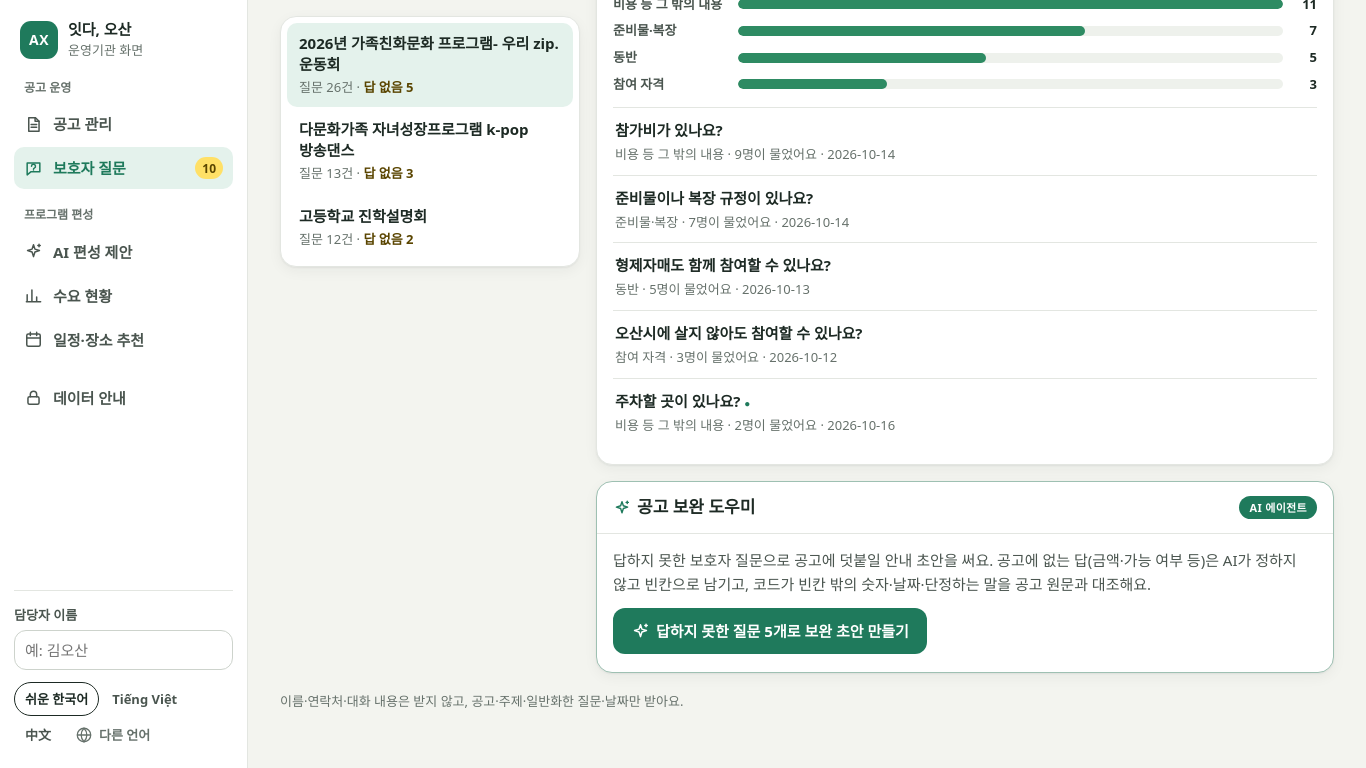
Test: 공고 보완 도우미 › 답 없는 질문으로 초안을 받아, 빈칸을 채워야 공고에 덧붙일 수 있다
The width and height of the screenshot is (1366, 768).
(page scrolled)
Step 1. Click the button "답하지 못한 질문 5개로 보완 초안 만들기" → x=770, y=631, box [613,608,927,654]
(page scrolled)
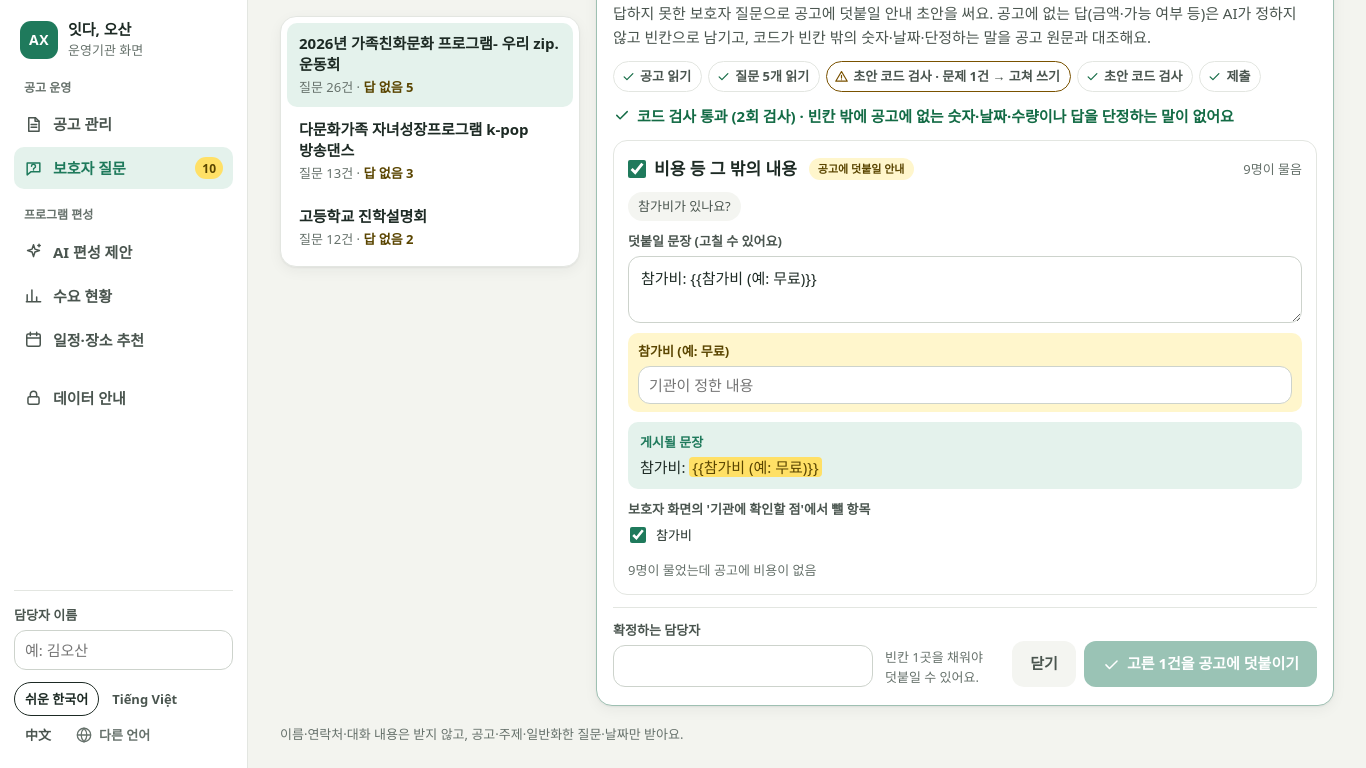
Now the text "코드 검사 통과 (2회 검사) · 빈칸 밖에 공고에 없는 숫자·날짜·수량이나 답을 단정하는 말이 없어요" is shown, box [613,104,1317,128]
Now the list item "초안 코드 검사 · 문제 1건 → 고쳐 쓰기" is shown, box [826,61,1071,92]
Now the button "고른 1건을 공고에 덧붙이기" is disabled, box [1084,641,1317,687]
Step 2. Type "무료" into the field labelled "참가비 (예: 무료)" → x=965, y=385, box [638,366,1292,404]
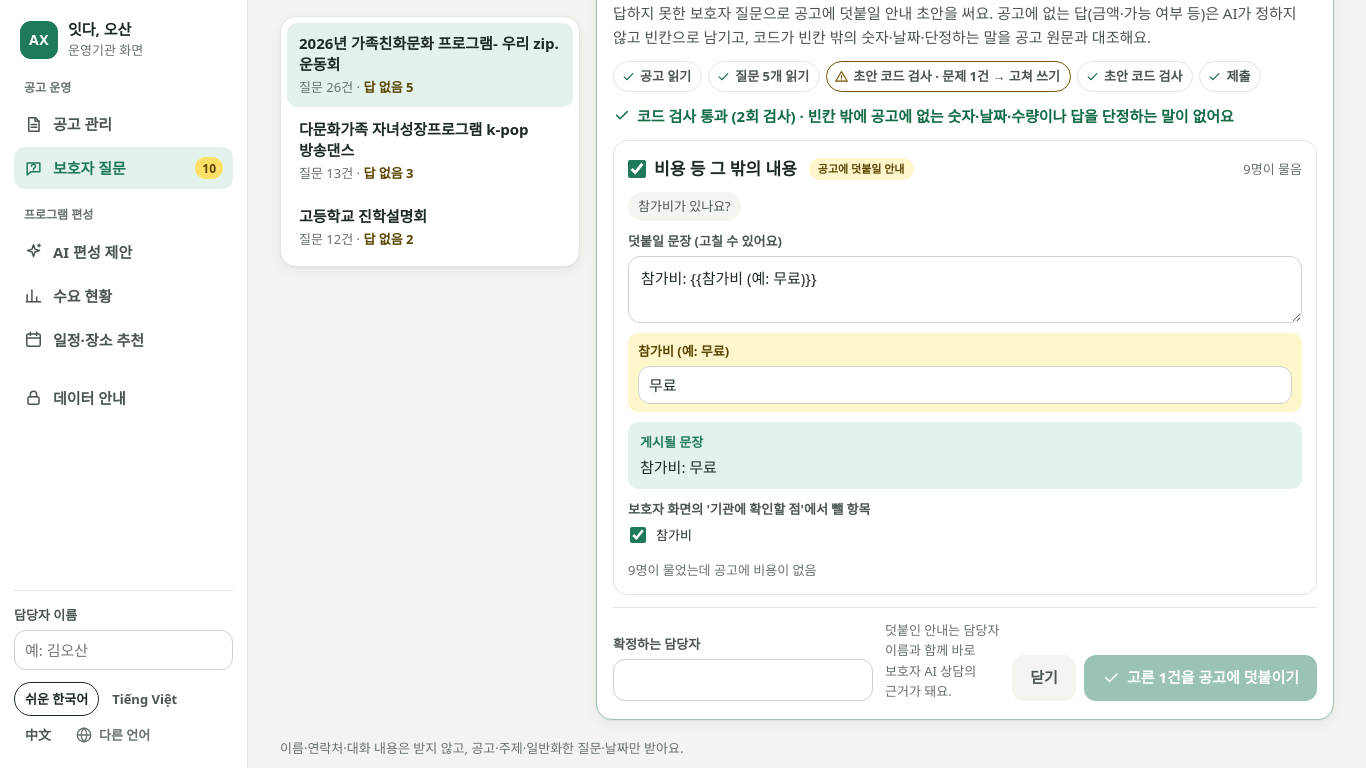
Step 3. Type "김오산" into the field labelled "확정하는 담당자" → x=743, y=680, box [613,659,873,701]
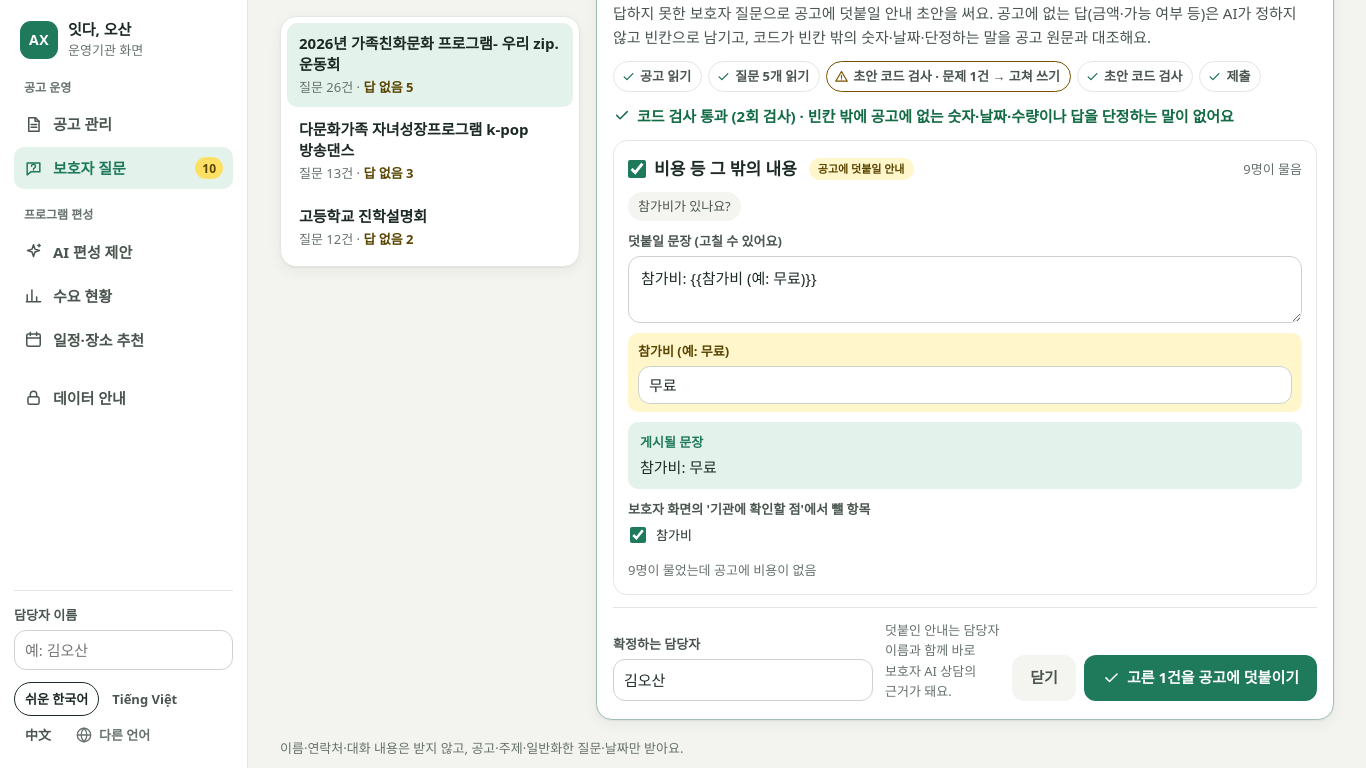
Now the button "고른 1건을 공고에 덧붙이기" is enabled
Step 4. Click the button "고른 1건을 공고에 덧붙이기" → x=1200, y=678, box [1084,655,1317,701]
(page scrolled)
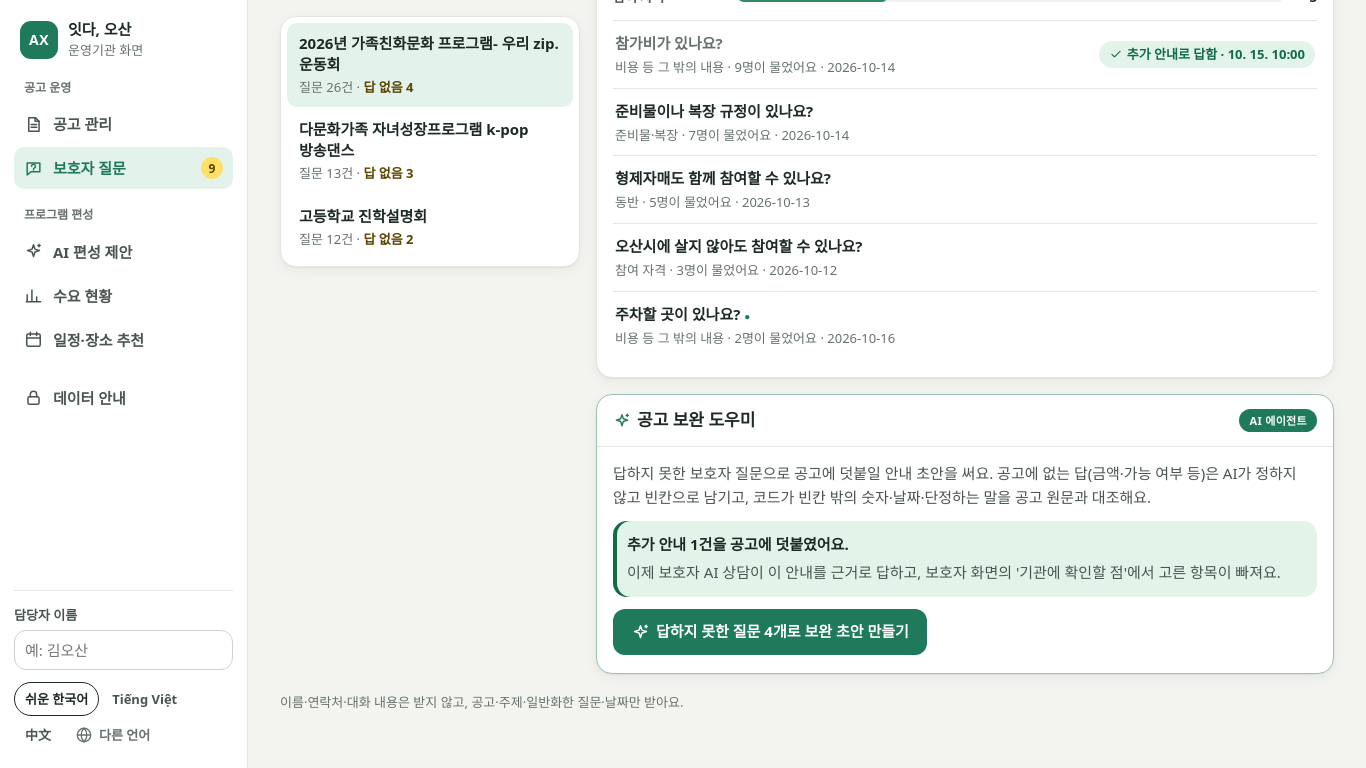
Now the text "추가 안내 1건을 공고에 덧붙였어요." is shown, box [627,534,849,554]
Now the text "추가 안내로 답함 · 10. 15. 10:00" is shown, box [1099,41,1315,68]
